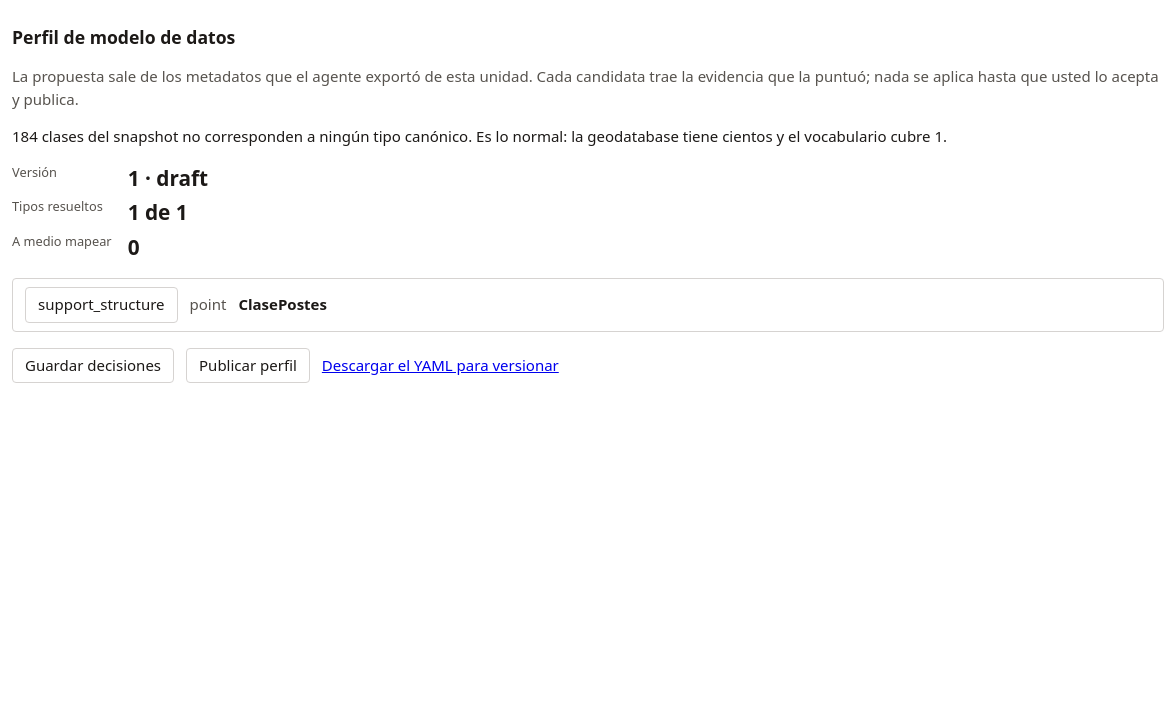
Test: la propuesta › muestra la evidencia de cada candidata, no solo una puntuación
Click the button "support_structure" at (101, 305), box [25,287,178,322]
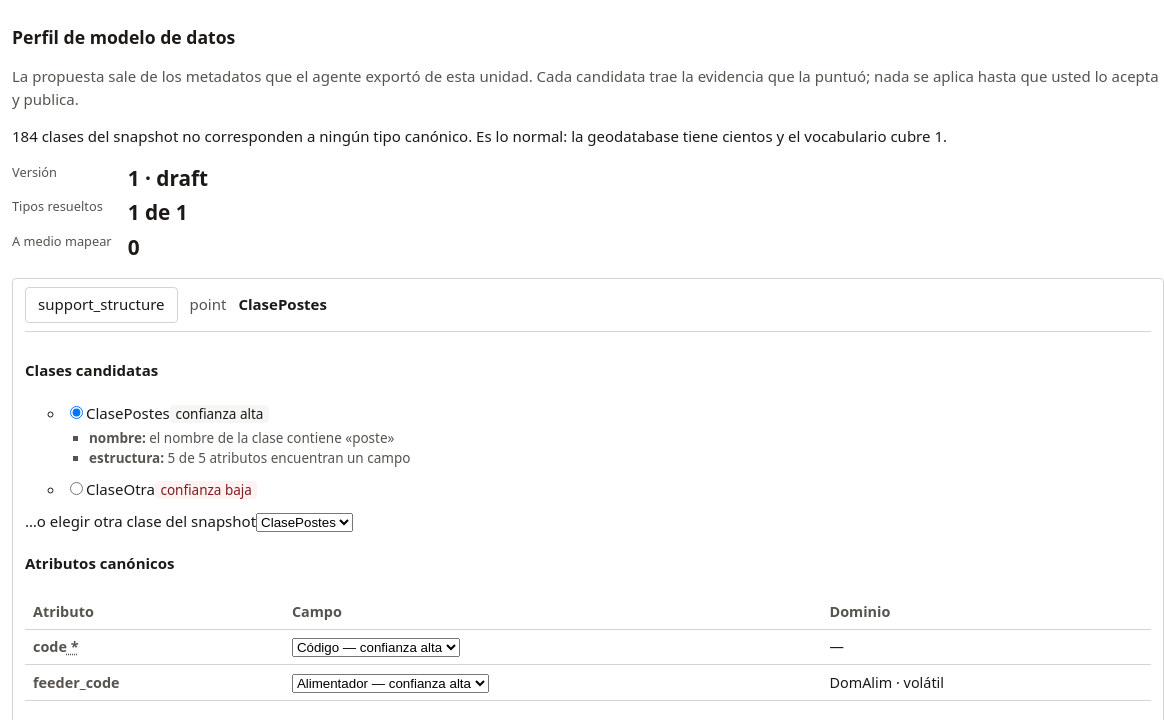
Result: the list item "nombre: el nombre de la clase contiene «poste»" is shown at [89,429,394,447]
Result: the list item "estructura: 5 de 5 atributos encuentran un campo" is shown at [89,449,410,467]
